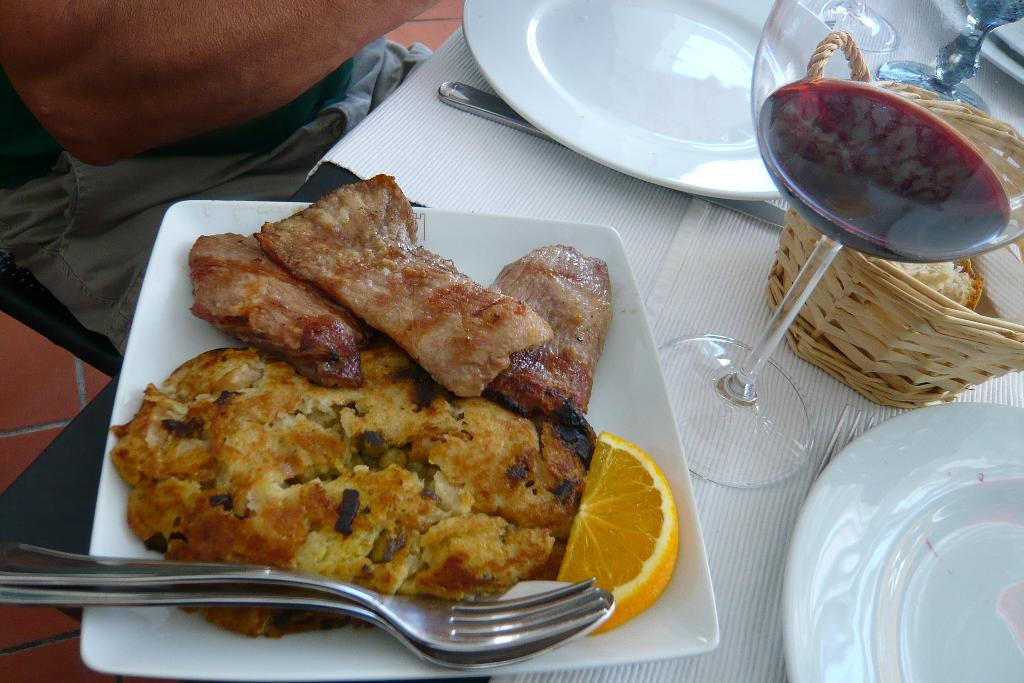plate: (769, 399, 1023, 682)
